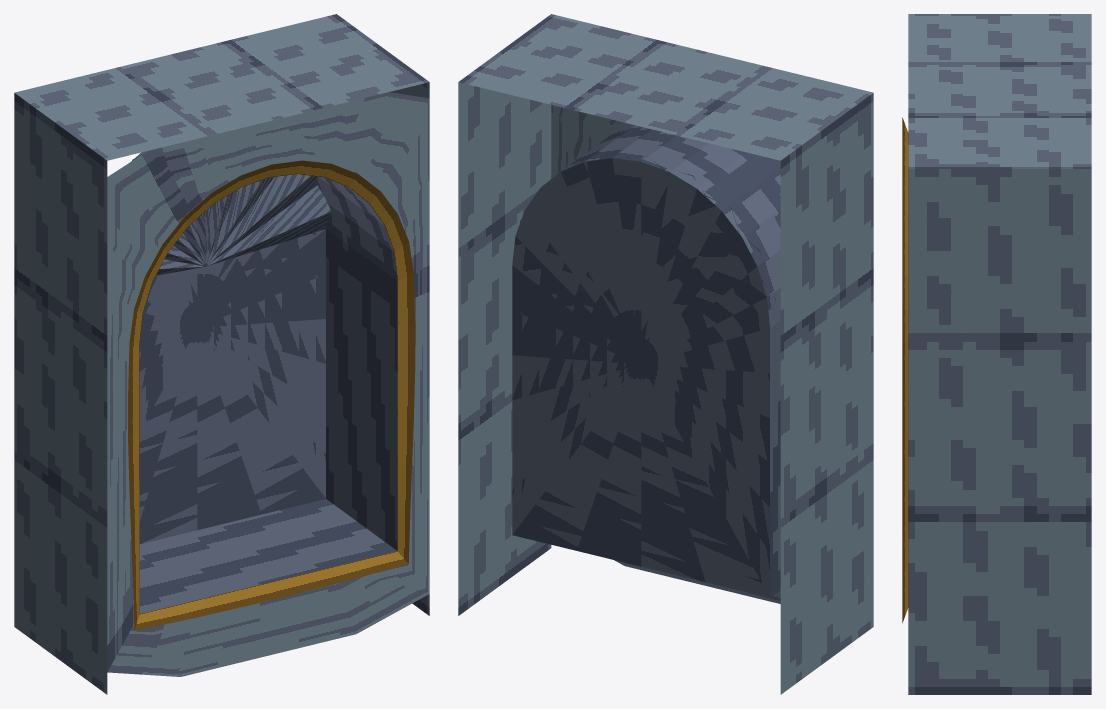
File: ORN-06_Hornacina.gltf
The picture shows the model from 3 angles, left to right: view 1: azimuth 30°, elevation 25°; view 2: azimuth 150°, elevation 25°; view 3: azimuth 270°, elevation 25°; orthographic projection.
Parts seen in each view (by area): view 1: ORN-06_Hornacina-col; view 2: ORN-06_Hornacina-col; view 3: ORN-06_Hornacina-col.
Part boxes in pixels (<box>): ORN-06_Hornacina-col: <box>14,14,429,694</box>; ORN-06_Hornacina-col: <box>458,14,873,694</box>; ORN-06_Hornacina-col: <box>902,14,1091,694</box>.
Size of the model in its own units: 1.2 by 1.9 by 0.62.
1 material, 1 textured.
